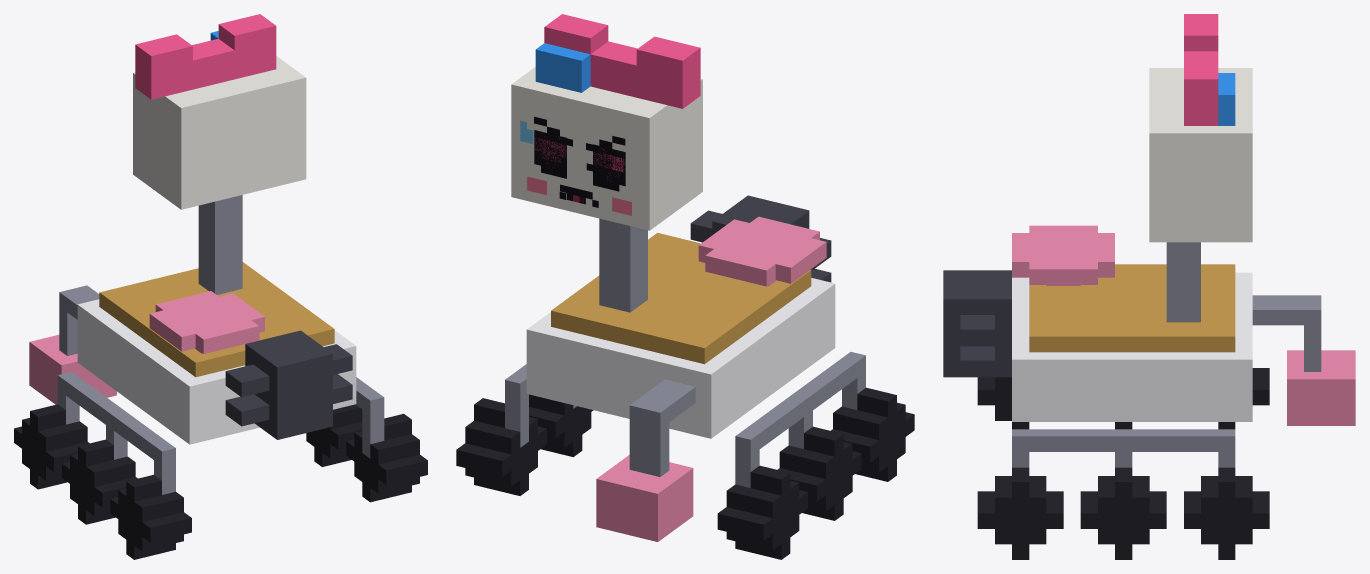
Rendered from perseverance.obj.
3 renders of one model, left to right at view 1: azimuth 30°, elevation 25°; view 2: azimuth 150°, elevation 25°; view 3: azimuth 270°, elevation 25°, orthographic. The views are drawn at different scales.
Parts seen in each view (by area): view 1: cabeza, ruedas, chasis, generador, cubierta, lazo, suspension, antena, mastil, torreta, brazo; view 2: ruedas, chasis, cabeza, cubierta, lazo, suspension, antena, torreta, brazo, mastil, generador, cabeza_lente (+5 smaller); view 3: chasis, ruedas, cabeza, cubierta, generador, suspension, antena, torreta, lazo, brazo, mastil, cabeza_lente.
Boxes of the visible parts, x1,y1,x2,y2 form: cabeza: [133, 56, 306, 209]; ruedas: [14, 404, 427, 559]; chasis: [77, 299, 356, 444]; generador: [225, 330, 352, 439]; cubierta: [99, 262, 334, 377]; lazo: [135, 14, 276, 99]; suspension: [57, 372, 384, 494]; antena: [149, 291, 264, 353]; mastil: [198, 195, 242, 294]; torreta: [29, 334, 116, 404]; brazo: [59, 285, 99, 355]; ruedas: [456, 387, 914, 559]; chasis: [526, 278, 835, 438]; cabeza: [511, 67, 702, 230]; cubierta: [551, 233, 811, 364]; lazo: [544, 14, 700, 108]; suspension: [505, 352, 865, 487]; antena: [698, 216, 826, 286]; torreta: [596, 455, 693, 541]; brazo: [629, 379, 695, 476]; mastil: [599, 218, 647, 312]; generador: [690, 195, 831, 282]; cabeza_lente: [535, 43, 590, 92]; chasis: [1012, 272, 1252, 421]; ruedas: [977, 368, 1269, 559]; cabeza: [1149, 68, 1252, 242]; cubierta: [1029, 264, 1235, 352]; generador: [943, 270, 1011, 377]; suspension: [1012, 429, 1235, 467]; antena: [1012, 225, 1114, 285]; torreta: [1287, 350, 1355, 425]; lazo: [1184, 14, 1218, 125]; brazo: [1252, 295, 1321, 371]; mastil: [1166, 242, 1200, 322]; cabeza_lente: [1218, 73, 1235, 125].
Size of the model in its own units: 0.8 by 1.16 by 0.96.
